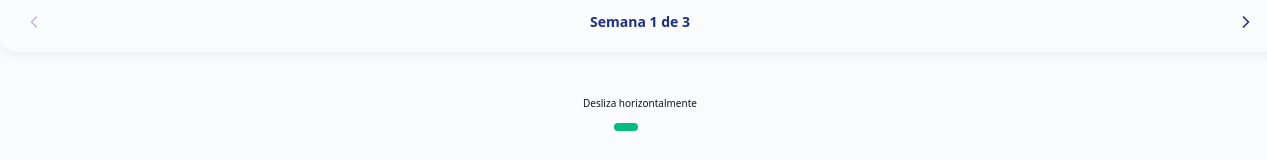
MobileWeekPager › muestra resistencia visual en primera semana al tirar a la derecha
This screenshot has width=1267, height=160.
Step 1. Press the mouse on the element with test id "ofrenda-week-swipe-area" → (640, 103), box [583,96,697,110]
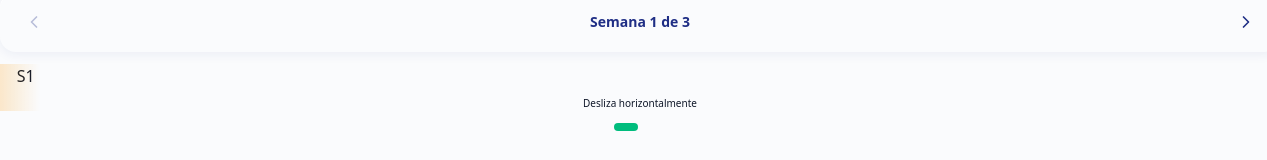
Result: the element with test id "ofrenda-week-edge-start" is shown at [0,64,40,111]
